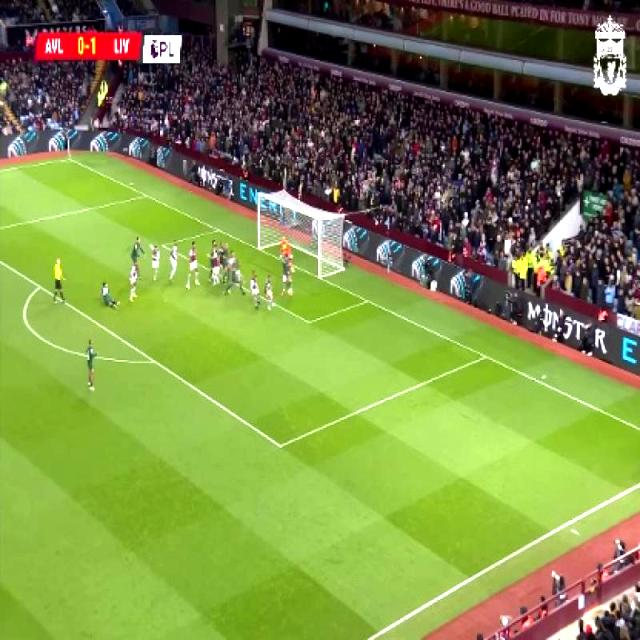bigarea_bottom_inner: (271, 432, 289, 456)
bigarea_bottom_outter: (478, 346, 492, 364)
bigarea_top_outter: (138, 188, 152, 202)
bottom_arc_area_intersection: (144, 349, 162, 371)
corner: (60, 150, 75, 165)
smallarea_bottom_inner: (300, 309, 315, 331)
smallarea_bottom_outter: (358, 290, 374, 308)
smallarea_top_inner: (156, 238, 169, 252)
smallarea_top_outter: (210, 220, 224, 237)
top_arc_area_intersection: (32, 276, 46, 294)
